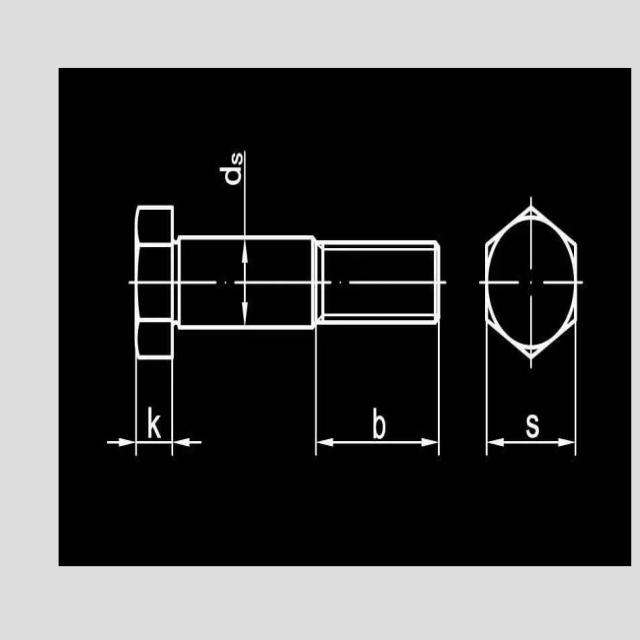marking_line: (312, 328, 444, 462), (479, 364, 581, 462), (106, 366, 203, 460), (478, 330, 497, 469), (563, 332, 582, 462), (239, 238, 251, 323)
